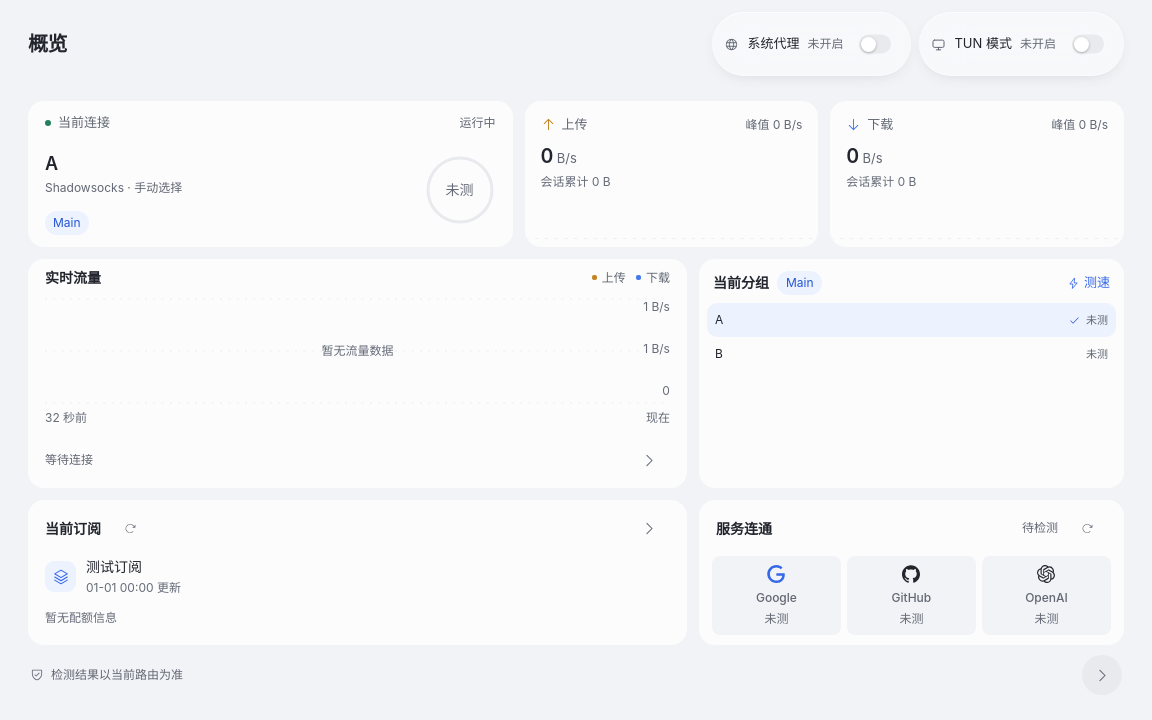
Test: 诊断展开不触发检测，收起后焦点仍留在开合按钮
Later steps or results of the test are not shown.
Click the button named "查看检测证据". click: (1102, 675)
box: [1082, 655, 1122, 695]
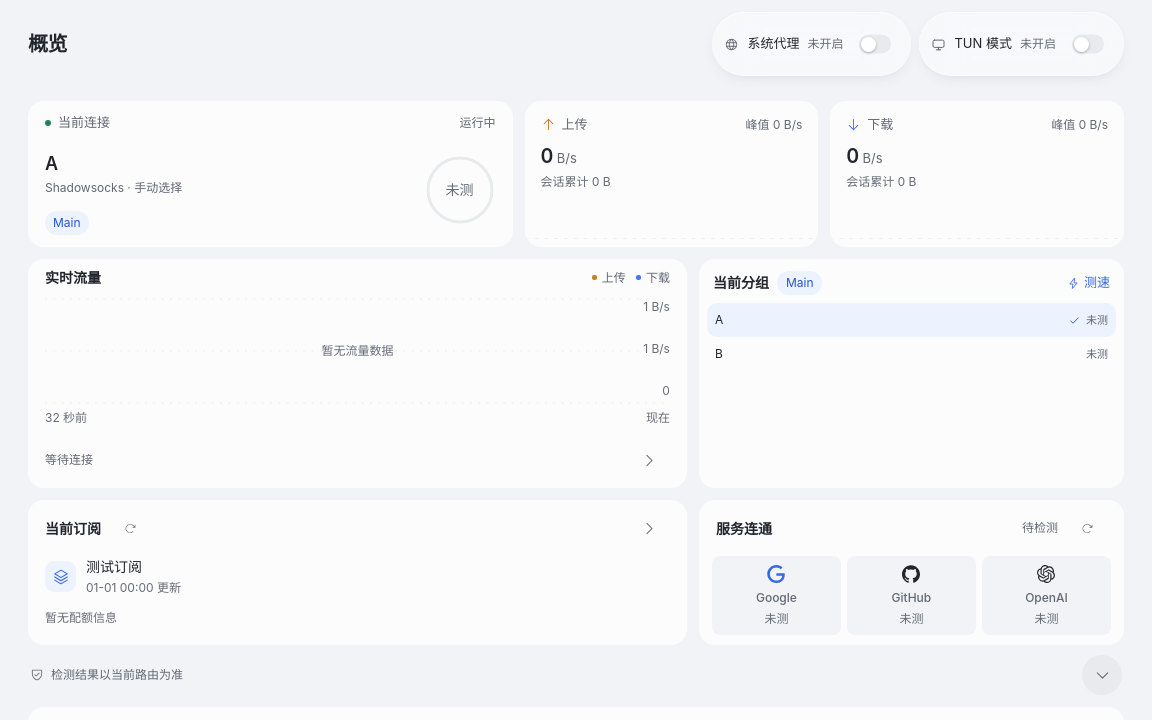
Check: the button named "收起检测证据" is expanded, box [1082, 655, 1122, 695]
